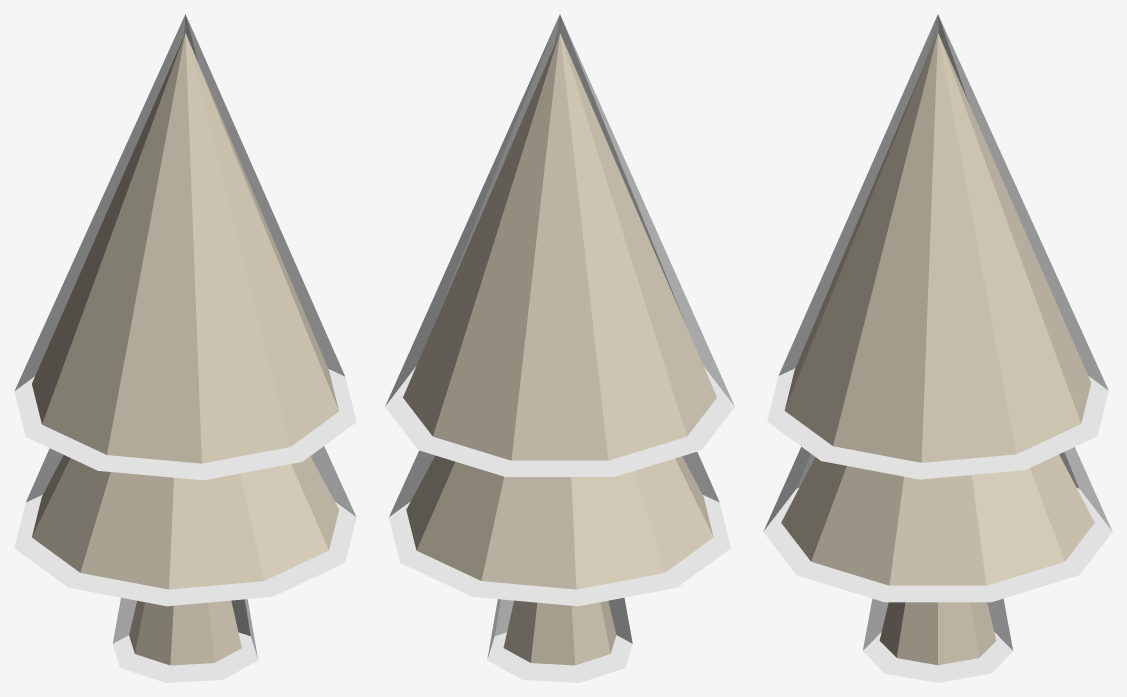
Rendered from arvore-outlined.glb.
The picture shows the model from 3 angles, left to right: view 1: azimuth 30°, elevation 25°; view 2: azimuth 150°, elevation 25°; view 3: azimuth 270°, elevation 25°; orthographic projection.
Parts seen in each view (by area): view 1: Cone.001; view 2: Cone.001; view 3: Cone.001.
Boxes of the visible parts, x1,y1,x2,y2 form: Cone.001: (14,14,356,682); Cone.001: (385,14,734,682); Cone.001: (763,14,1112,682).
Size of the model in its own units: 2.03 by 4.11 by 2.04.
